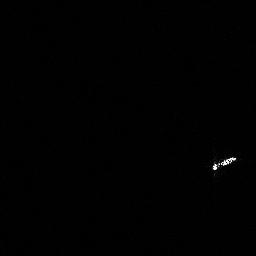ship: (209, 154, 238, 173)
